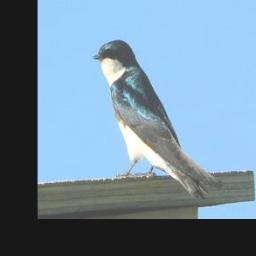Swallow: (91, 38, 225, 202)
